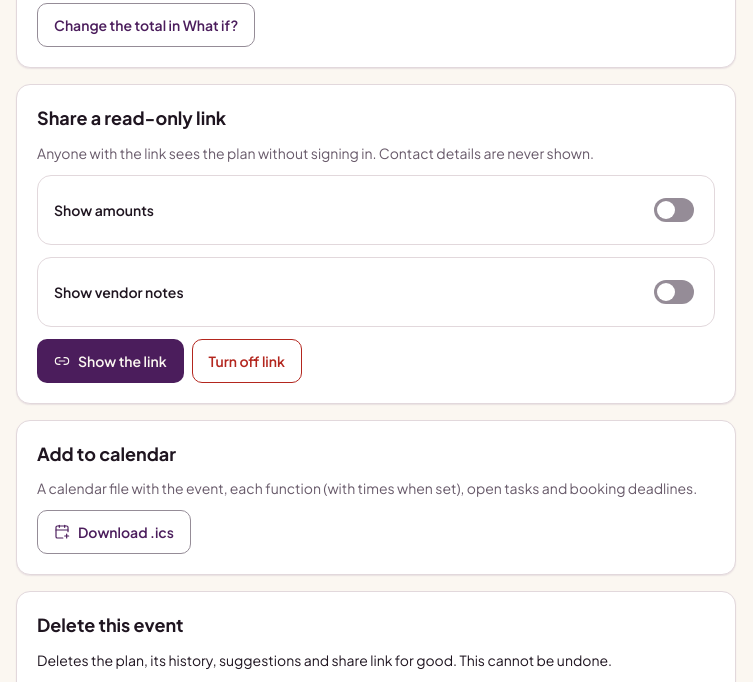
Scenario: Event settings: failures and existing links › explains a failed turn-off and keeps the link active
(page scrolled)
Click the button "Turn off link" at (247, 361), box [192,339,302,383]
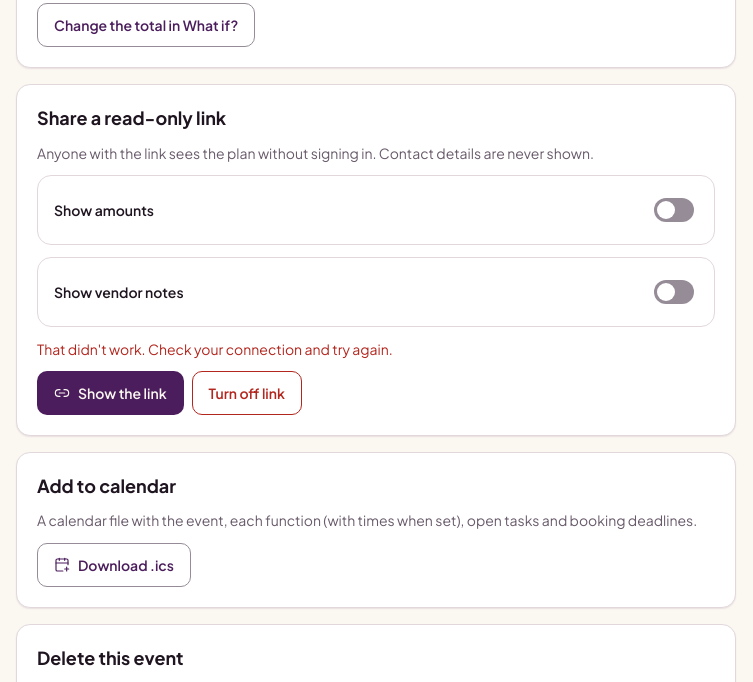
Expected: the button "Turn off link" is enabled, [192,371,302,415]
Expected: the message shows "Check your connection", [37,340,393,358]
